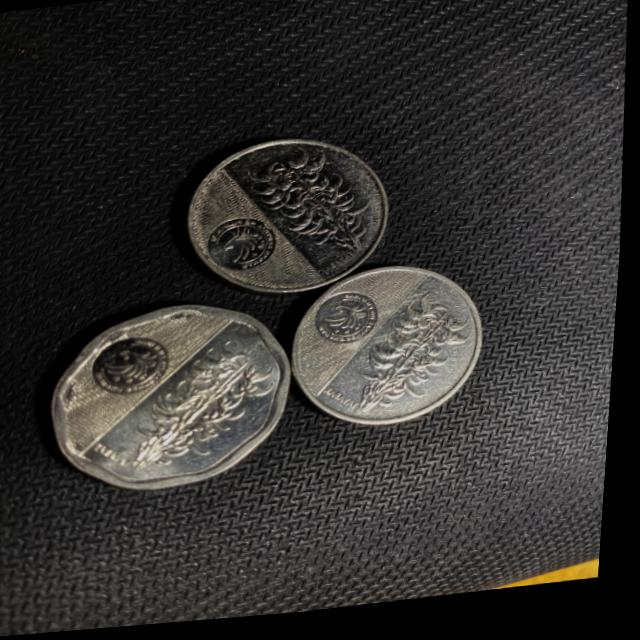5_New_Back: (123, 355, 275, 473), (361, 302, 476, 416), (253, 152, 369, 265)
